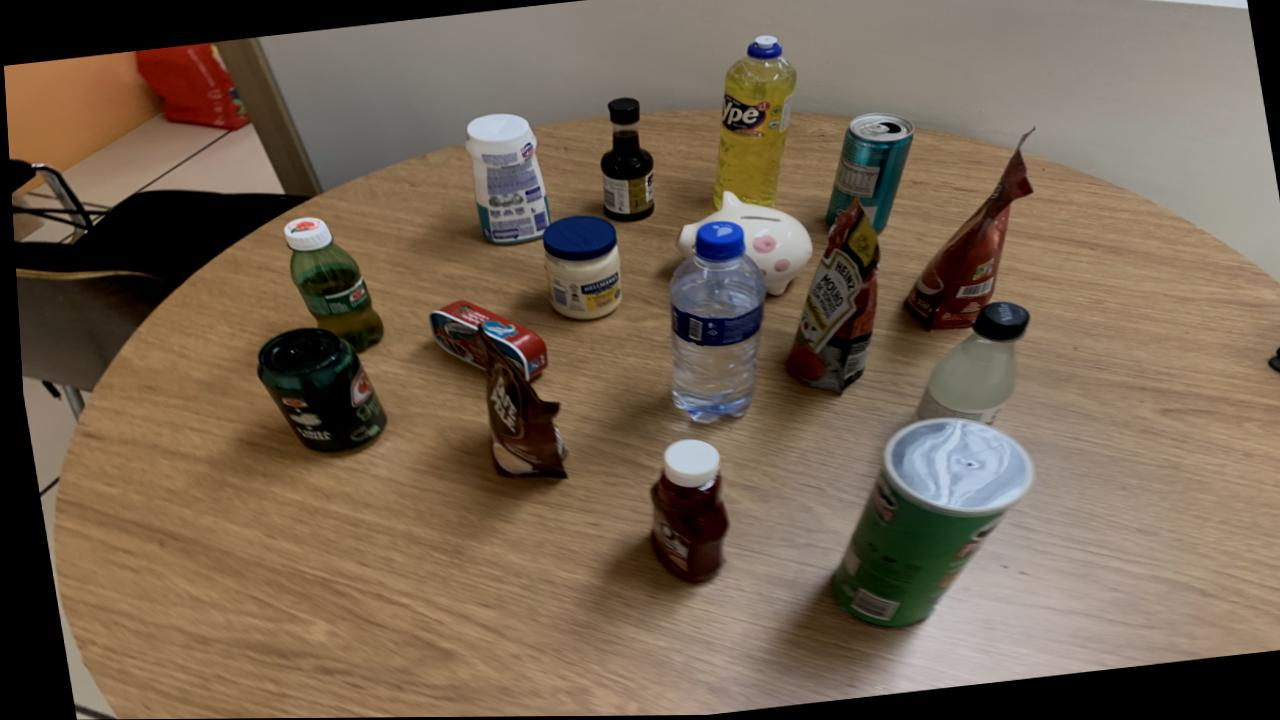Cleaner-Cleanup_Items: (463, 114, 549, 245)
Coffee-Pantry_Items: (472, 327, 562, 478)
Detergent-Cleanup_Items: (710, 35, 796, 208)
English_Sauce-Pantry_Items: (598, 98, 652, 223)
Guarana-Drinks: (280, 217, 379, 352)
Guarana_Can-Drinks: (253, 328, 382, 453)
Ketchup-Pantry_Items: (644, 440, 723, 583)
Mayonnaise-Pantry_Items: (539, 215, 618, 320)
Pig_Safe-Miscellaneous: (673, 191, 810, 296)
Pringles-Snacks: (824, 419, 1028, 628)
Soda-Drinks: (912, 303, 1026, 425)
Tea-Drinks: (822, 113, 912, 233)
Tomato_Sauce-Pantry_Items: (900, 148, 1030, 331), (781, 202, 878, 394)
Tuna_Can-Pantry_Items: (424, 300, 544, 381)
Water_Bottle-Drinks: (665, 222, 763, 424)
